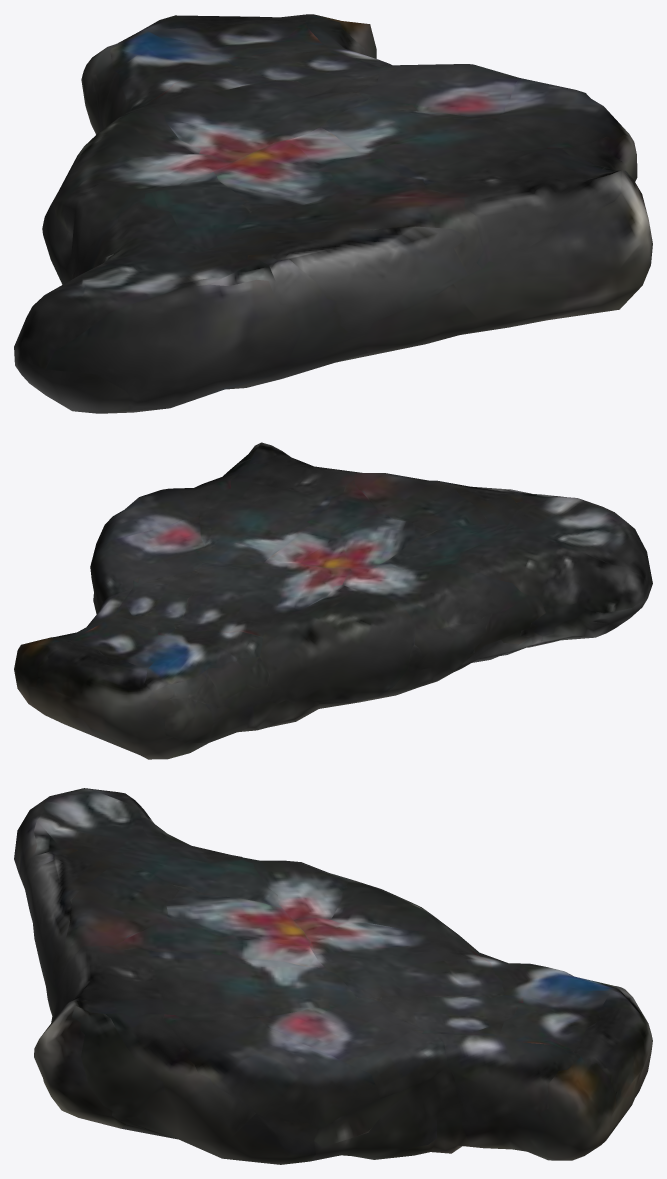
File: hall.glb
3 renders of one model, top to bottom at view 1: azimuth 30°, elevation 25°; view 2: azimuth 150°, elevation 25°; view 3: azimuth 270°, elevation 25°, orthographic. The views are drawn at different scales.
Bounding box in the file's own units: 0.4287 × 0.1209 × 0.4183.
1 material, 1 textured.
